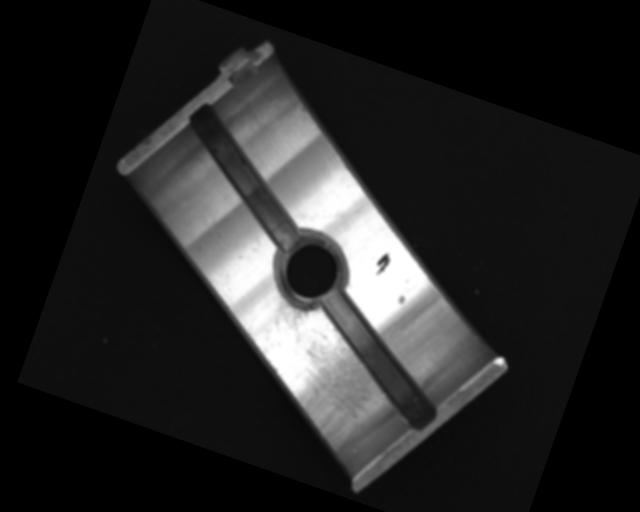blot: (372, 250, 392, 278)
bruise: (396, 293, 407, 306)
gap: (158, 100, 333, 254), (297, 291, 464, 434)
hole: (262, 224, 356, 316)
scratch: (234, 291, 402, 460)
